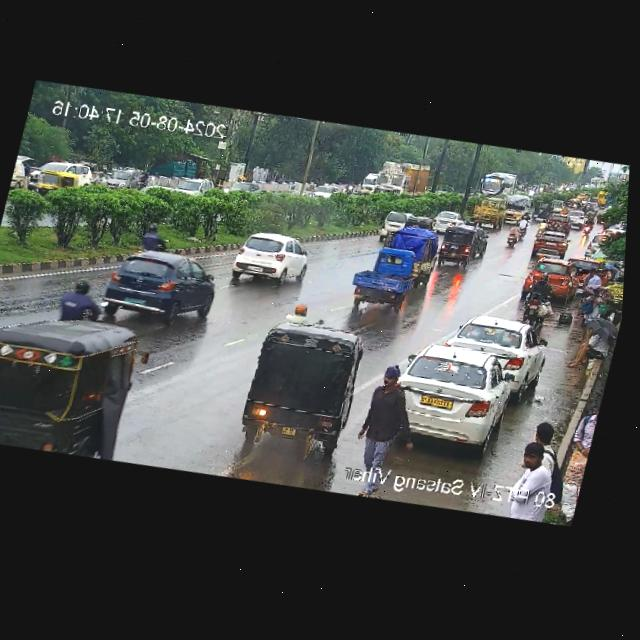bus: (0, 291, 152, 468)
car: (232, 310, 371, 460), (381, 336, 523, 454), (97, 241, 229, 336), (444, 308, 550, 388), (226, 222, 317, 293), (345, 238, 424, 313), (501, 438, 560, 522), (382, 224, 451, 284), (516, 252, 578, 304), (28, 152, 97, 195), (436, 224, 477, 266), (33, 165, 80, 198), (104, 161, 150, 194), (534, 227, 571, 261), (528, 416, 561, 451), (429, 207, 468, 235), (378, 207, 408, 243), (500, 192, 532, 223), (581, 228, 610, 260), (404, 211, 435, 236)
motorcycle: (46, 269, 109, 321), (518, 269, 557, 323), (283, 297, 318, 325), (142, 220, 172, 252), (503, 222, 529, 251)
person: (348, 357, 420, 495), (568, 327, 612, 377), (580, 283, 610, 332), (582, 261, 613, 293)
truck: (374, 153, 435, 202)
